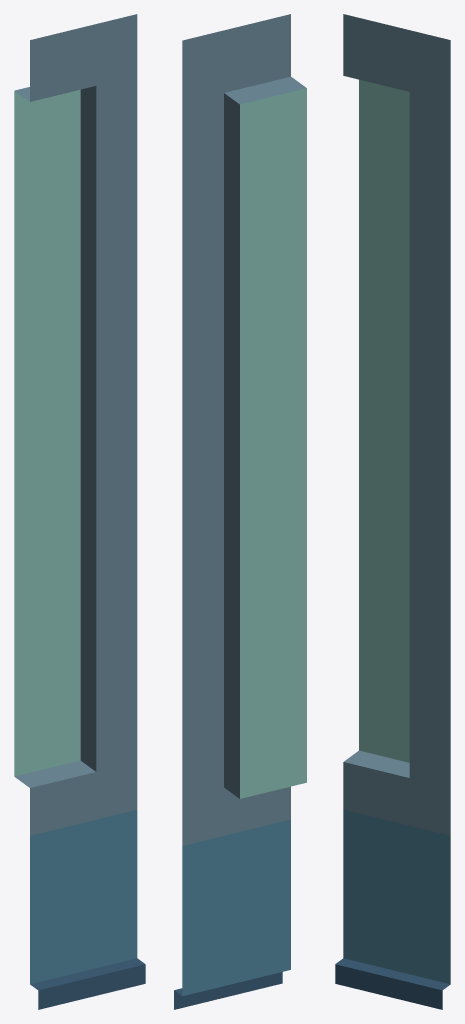
File: wallWindowR.fbx
3 renders of one model, left to right at view 1: azimuth 30°, elevation 25°; view 2: azimuth 210°, elevation 25°; view 3: azimuth 330°, elevation 25°, orthographic.
Visible parts, largest first — view 1: wallWindowR; view 2: wallWindowR; view 3: wallWindowR.
Boxes of the visible parts, x1,y1,x2,y2 form: wallWindowR: (14, 14, 145, 1009); wallWindowR: (174, 14, 306, 1009); wallWindowR: (335, 14, 450, 1009).
Size of the model in its own units: 356 by 3054 by 137.
